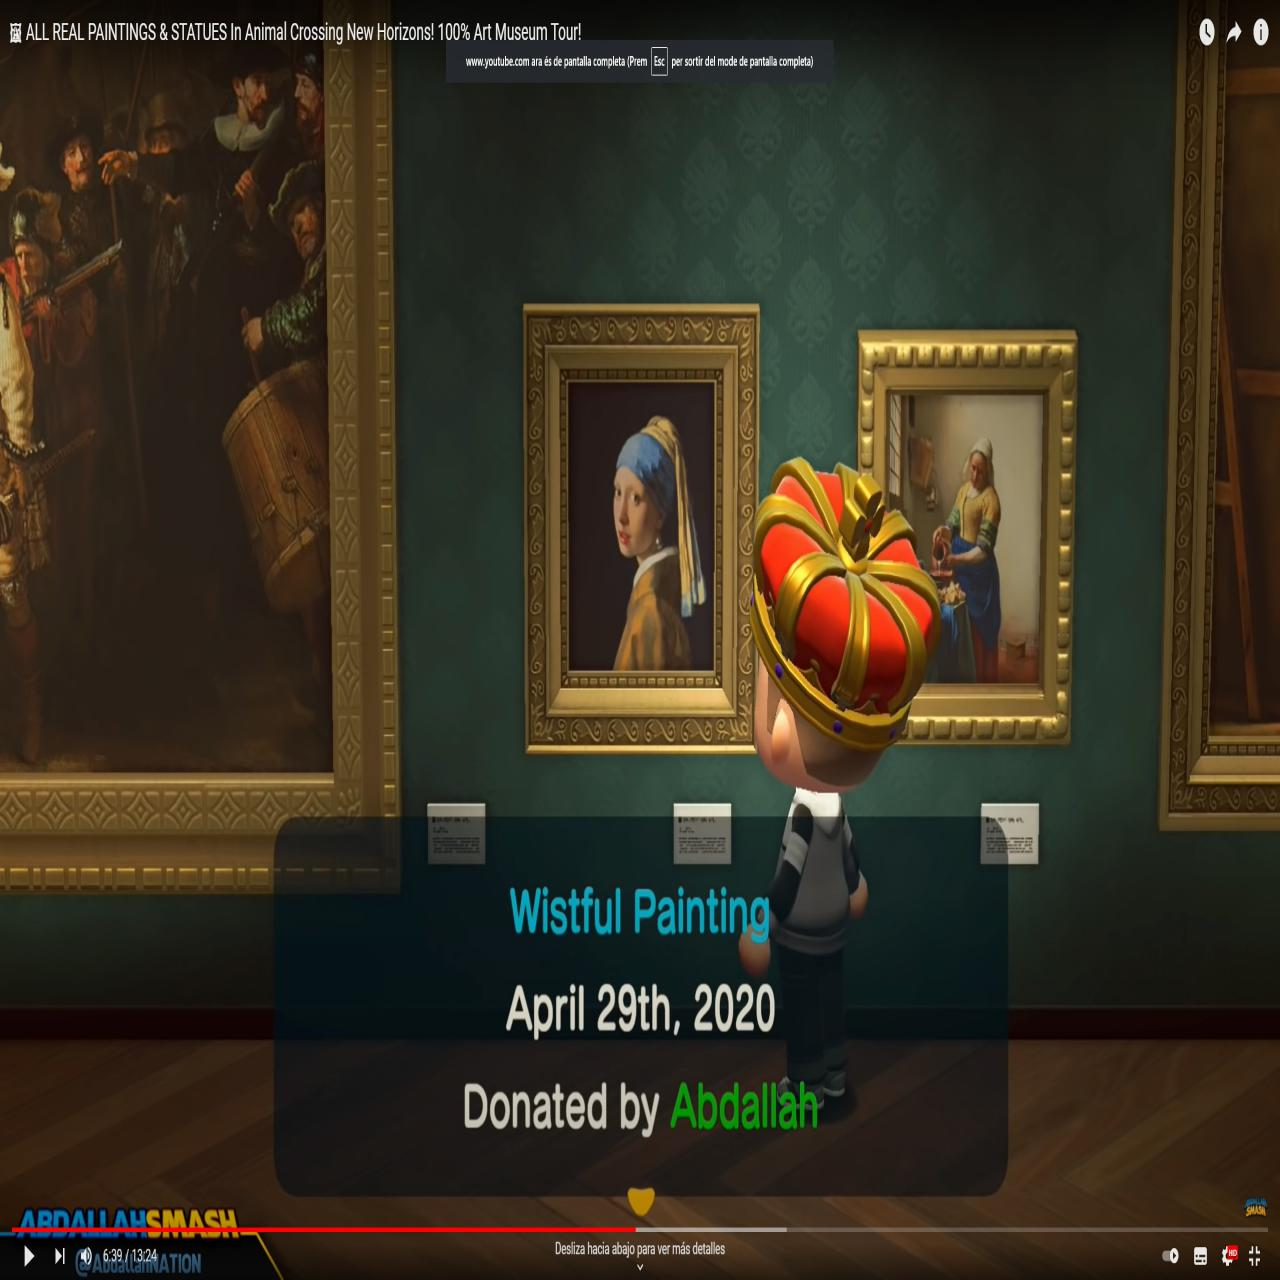Milkmaid: (888, 394, 1046, 676)
PearlEarring: (573, 384, 717, 667)
